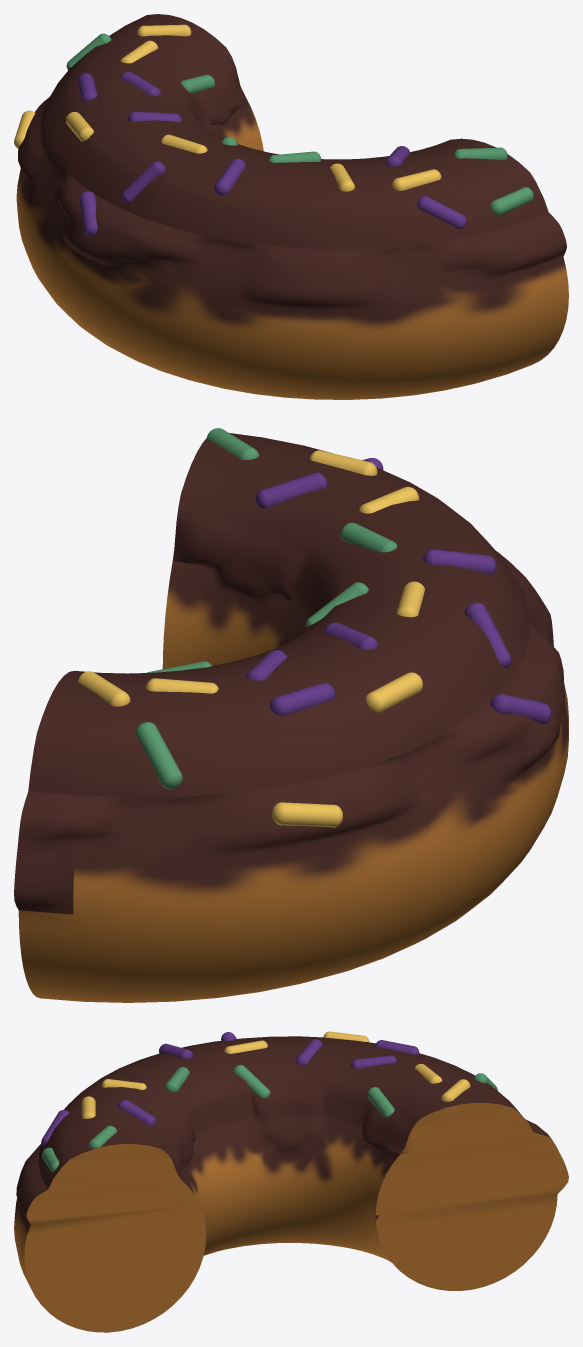
The model's file is donut3_LOD0.fbx.
The picture shows the model from 3 angles, top to bottom: view 1: azimuth 30°, elevation 25°; view 2: azimuth 150°, elevation 25°; view 3: azimuth 270°, elevation 25°; orthographic projection. The views are drawn at different scales.
Visible parts, largest first — view 1: pTorus2; view 2: pTorus2; view 3: pTorus2.
Boxes of the visible parts, box(x1,y1,x2,y2) form: pTorus2: box(14, 14, 568, 399); pTorus2: box(14, 428, 568, 1002); pTorus2: box(14, 1031, 568, 1332).
Size of the model in its own units: 141 by 84.48 by 220.
